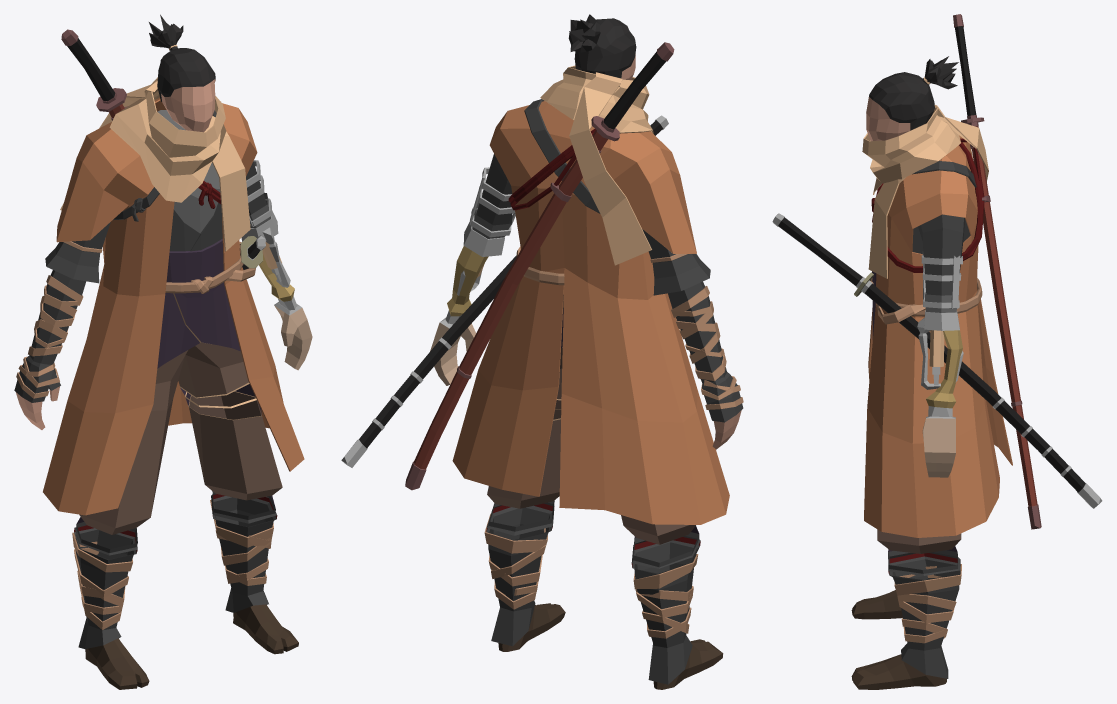
File: low-poly_sekiro.glb
3 renders of one model, left to right at view 1: azimuth 30°, elevation 25°; view 2: azimuth 150°, elevation 25°; view 3: azimuth 270°, elevation 25°, orthographic. The views are drawn at different scales.
Visible parts, largest first — view 1: Plane, Legs, Scarf, Jacket, Prosthetic, Arm, Cylinder.002, Cube.004, Cube.003, Cylinder.004, Sword.002, Hand (+5 smaller); view 2: Plane, Legs, Scarf, Sword.002, Arm, Prosthetic, Cylinder.002, Sword.000, Cube.004, Cube.003, Cylinder.004, Hand (+4 smaller); view 3: Plane, Prosthetic, Scarf, Legs, Sword.000, Sword.002, Cube.004, Cube.003, Cylinder.002, Arm, Cube.006, Cube.002 (+2 smaller).
Part boxes in pixels (x1,y1,x2,y2): Plane: (43, 98, 304, 515); Legs: (74, 342, 282, 648); Scarf: (60, 77, 250, 251); Jacket: (157, 110, 240, 368); Prosthetic: (241, 160, 312, 370); Arm: (29, 161, 266, 364); Cylinder.002: (72, 500, 273, 629); Cube.004: (157, 45, 215, 132); Cube.003: (85, 604, 298, 689); Cylinder.004: (28, 275, 83, 356); Sword.002: (61, 29, 127, 120); Hand: (14, 355, 60, 429); Plane: (452, 101, 729, 524); Legs: (486, 348, 700, 684); Scarf: (540, 65, 653, 265); Sword.002: (405, 42, 674, 490); Arm: (476, 154, 726, 383); Prosthetic: (430, 167, 515, 385); Cylinder.002: (484, 513, 698, 638); Sword.000: (341, 115, 668, 467); Cube.004: (574, 18, 636, 80); Cube.003: (498, 603, 723, 689); Cylinder.004: (671, 286, 726, 381); Hand: (702, 372, 743, 449); Plane: (864, 135, 1012, 537); Prosthetic: (917, 251, 963, 477); Scarf: (862, 105, 988, 278); Legs: (877, 529, 961, 678); Sword.000: (772, 213, 1102, 508); Sword.002: (953, 14, 1041, 529); Cube.004: (866, 72, 934, 141); Cube.003: (851, 590, 946, 689); Cylinder.002: (894, 564, 961, 643); Arm: (918, 214, 965, 295); Cube.006: (871, 138, 984, 272); Cube.002: (870, 278, 982, 324).
Size of the model in its own units: 117 by 239 by 121.
